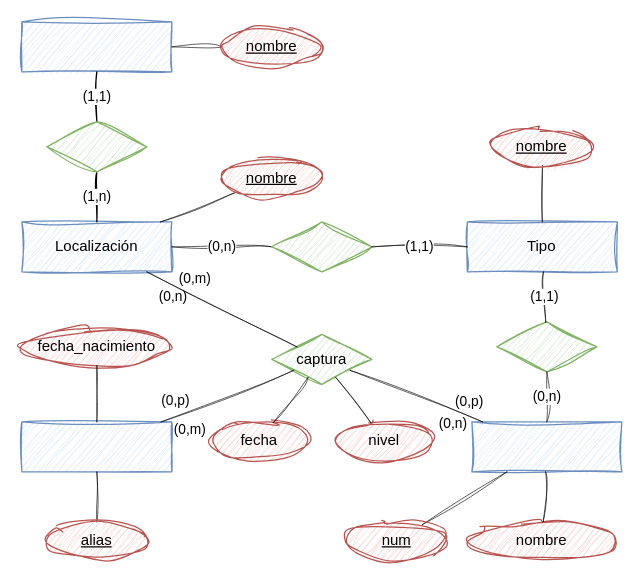
Some shapes in this 644 by 581 pixel diagram are drawn without their labels. Here are the shapes that lost their labels. From the top down, the box of each, then its label:
(21, 21, 172, 72): Región
(46, 121, 147, 172): contiene
(271, 221, 372, 272): genera
(496, 321, 597, 372): pertenece
(21, 421, 172, 472): Entrenador
(471, 421, 622, 472): Pokemon
